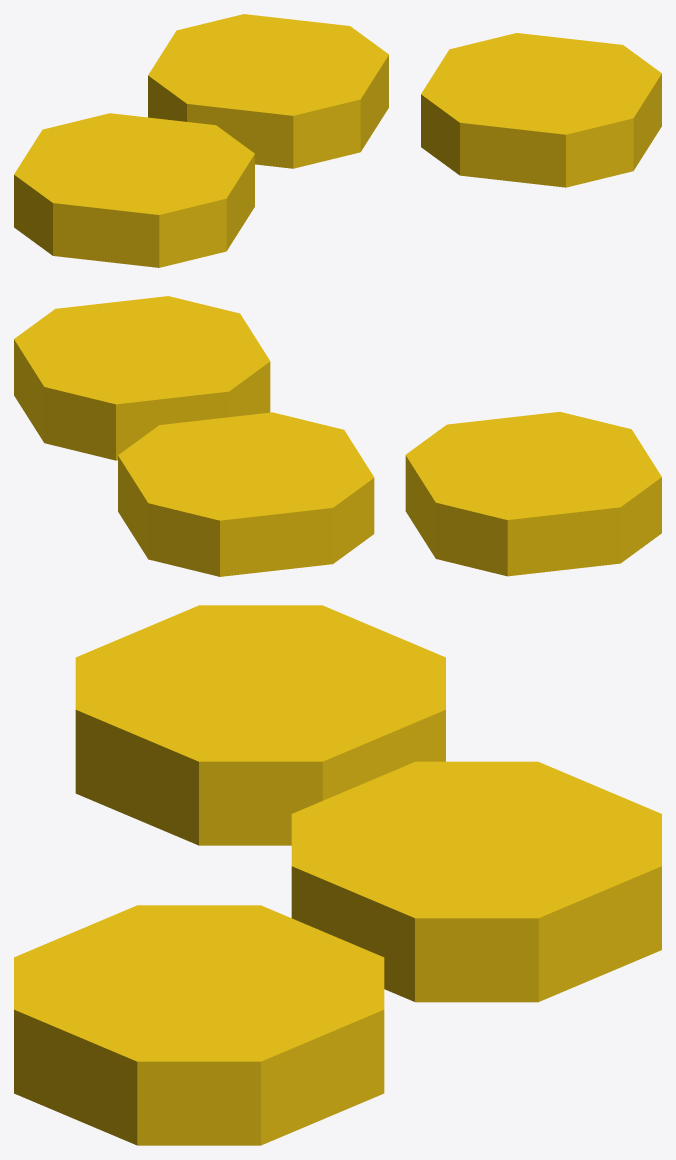
Rendered from inv_stack_coins_3.obj.
3 views of the same model, one above another, from view 1: azimuth 30°, elevation 25°; view 2: azimuth 150°, elevation 25°; view 3: azimuth 270°, elevation 25° (orthographic). The views are drawn at different scales.
Bounding box in the file's own units: 0.2734 × 0.0234 × 0.1641.
